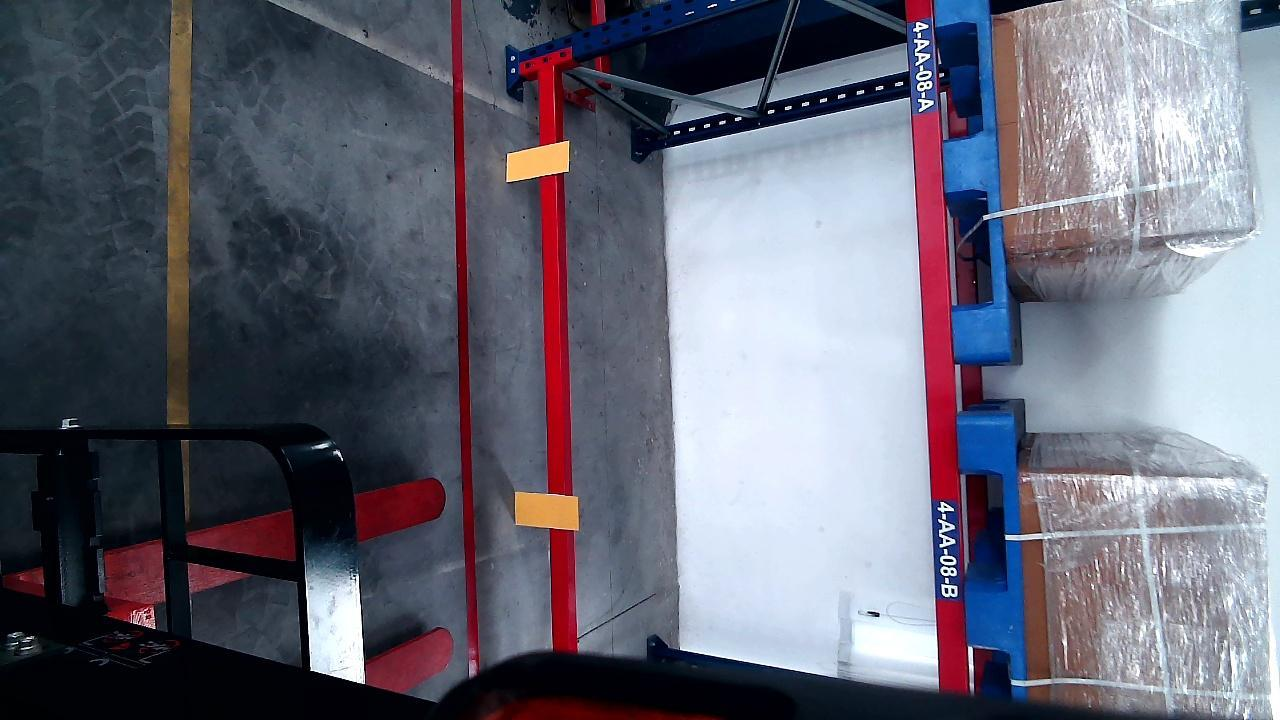red_line: (447, 0, 479, 677)
yellow_line: (164, 0, 193, 426)
